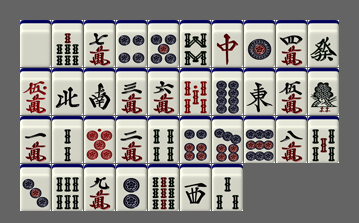0m: (20, 68, 51, 115)
0p: (84, 116, 115, 163)
0s: (180, 68, 211, 115)
1m: (20, 116, 51, 163)
1p: (244, 20, 275, 67)
1s: (308, 68, 339, 115)
1z: (244, 68, 275, 115)
2m: (116, 116, 147, 163)
2p: (116, 164, 147, 211)
2s: (52, 116, 83, 163)
2z: (84, 68, 115, 115)
3m: (116, 68, 147, 115)
3p: (20, 164, 51, 211)
3s: (212, 164, 243, 211)
3z: (180, 164, 211, 211)
4m: (276, 20, 307, 67)
4p: (116, 20, 147, 67)
4s: (148, 116, 179, 163)
4z: (52, 68, 83, 115)
5m: (276, 68, 307, 115)
5p: (148, 20, 179, 67)
5s: (308, 116, 339, 163)
5z: (20, 20, 51, 67)
6m: (148, 68, 179, 115)
6p: (180, 116, 211, 163)
6s: (52, 164, 83, 211)
6z: (308, 20, 339, 67)
7m: (84, 20, 115, 67)
7p: (212, 116, 243, 163)
7s: (52, 20, 83, 67)
7z: (212, 20, 243, 67)
8m: (276, 116, 307, 163)
8p: (212, 68, 243, 115)
8s: (180, 20, 211, 67)
9m: (84, 164, 115, 211)
9p: (244, 116, 275, 163)
9s: (148, 164, 179, 211)
